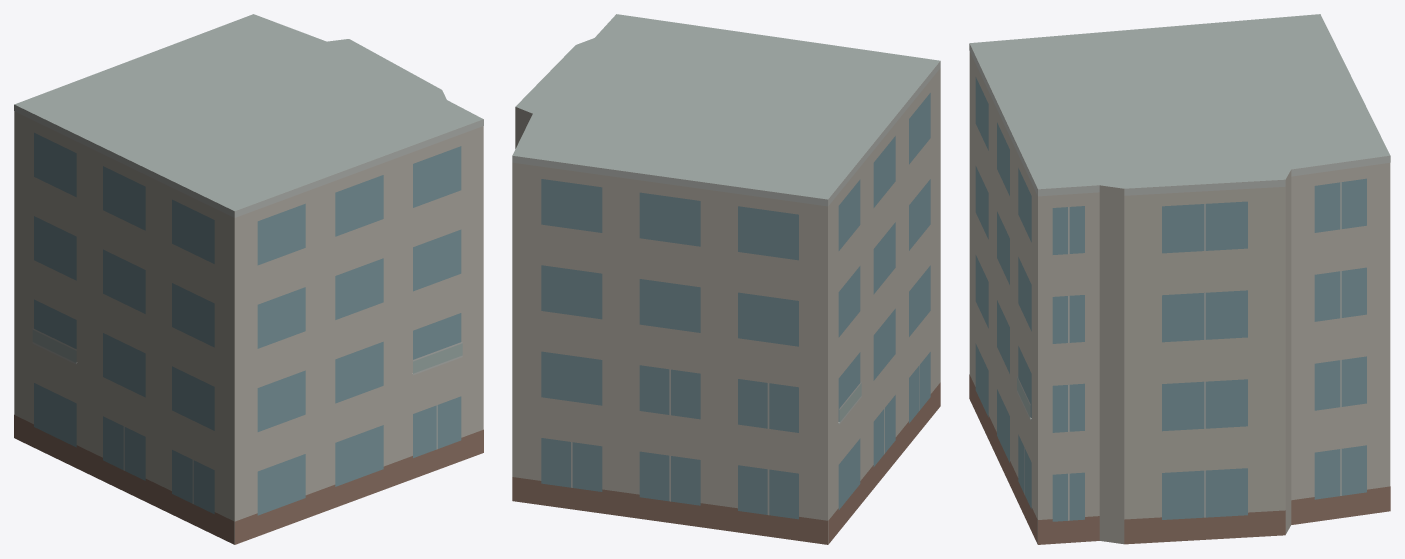
File: survey-upis-33016193.glb
3 views of the same model, side by side, from view 1: azimuth 30°, elevation 25°; view 2: azimuth 150°, elevation 25°; view 3: azimuth 270°, elevation 25° (orthographic). The views are drawn at different scales.
Parts seen in each view (by area): view 1: survey-upis-33016193.tmp; view 2: survey-upis-33016193.tmp; view 3: survey-upis-33016193.tmp.
Part boxes in pixels (left/top/right/bottom): survey-upis-33016193.tmp: left=14, top=14, right=483, bottom=544; survey-upis-33016193.tmp: left=512, top=14, right=940, bottom=544; survey-upis-33016193.tmp: left=969, top=14, right=1390, bottom=544.
Size of the model in its own units: 12.91 by 12.2 by 13.1.
